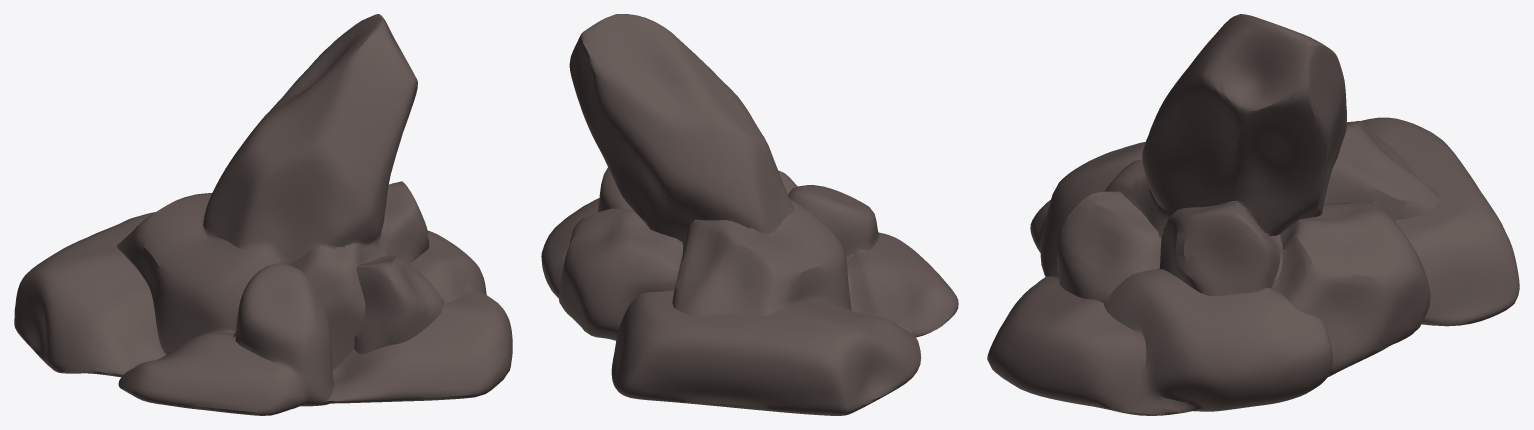
The model's file is Environment_Cliff4.glb.
The picture shows the model from 3 angles, left to right: view 1: azimuth 30°, elevation 25°; view 2: azimuth 150°, elevation 25°; view 3: azimuth 270°, elevation 25°; orthographic projection. The views are drawn at different scales.
Parts seen in each view (by area): view 1: Environment_Cliff4; view 2: Environment_Cliff4; view 3: Environment_Cliff4.
Boxes of the visible parts, x1=… form: Environment_Cliff4: x1=14, y1=14, x2=512, y2=415; Environment_Cliff4: x1=541, y1=14, x2=958, y2=415; Environment_Cliff4: x1=987, y1=14, x2=1519, y2=415.
Size of the model in its own units: 7.38 by 5.53 by 7.12.
1 material, 1 textured.
